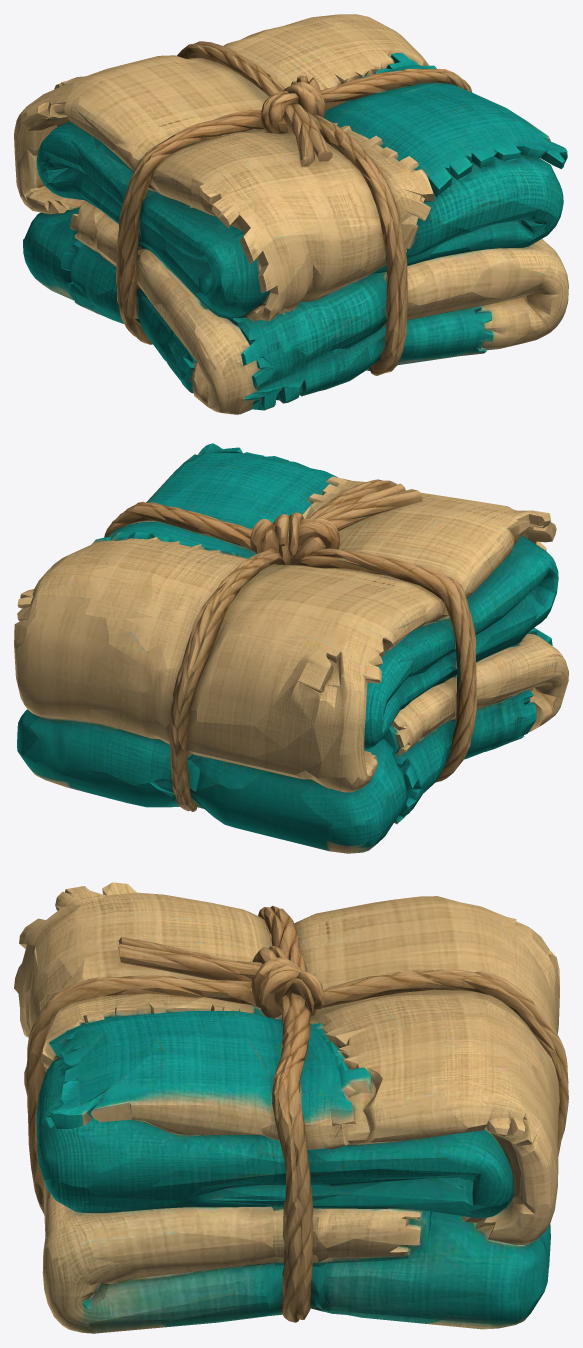
Rendered from mat_cloth.glb.
3 renders of one model, top to bottom at view 1: azimuth 30°, elevation 25°; view 2: azimuth 150°, elevation 25°; view 3: azimuth 270°, elevation 25°, orthographic. The views are drawn at different scales.
Visible parts, largest first — view 1: output_unwrapped; view 2: output_unwrapped; view 3: output_unwrapped.
Boxes of the visible parts, left/top/right/bottom form: output_unwrapped: left=14, top=14, right=568, bottom=414; output_unwrapped: left=14, top=443, right=568, bottom=853; output_unwrapped: left=14, top=882, right=568, bottom=1333.
Bounding box in the file's own units: 1.76 × 1.04 × 1.9.
Materials: 1 (1 with a texture image).
